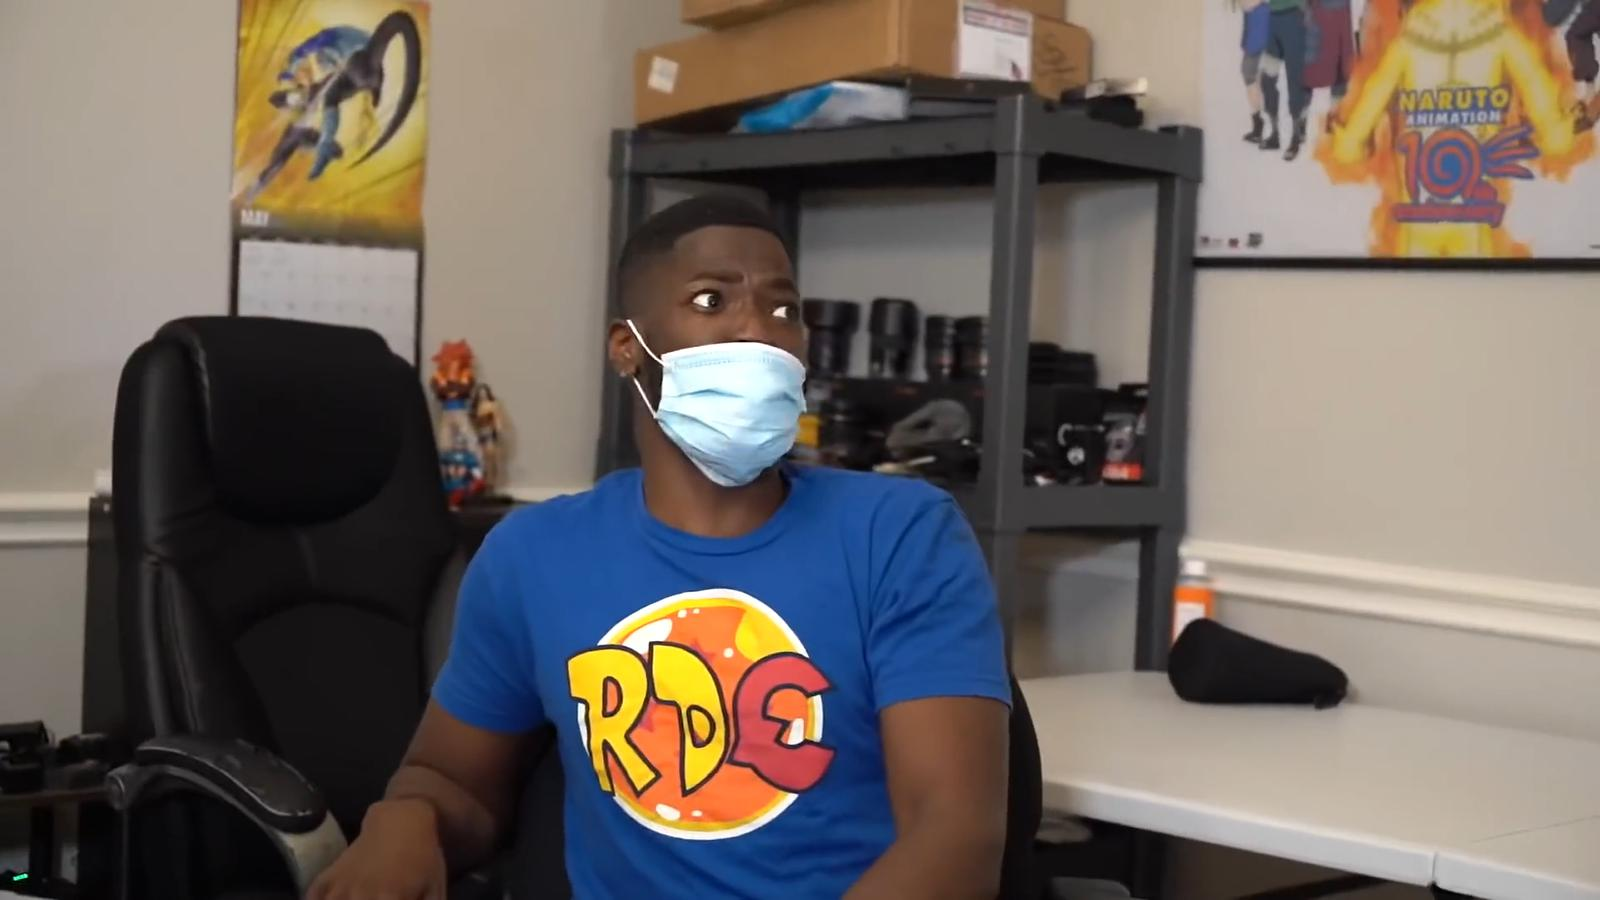with_incorrect_mask: (645, 276, 794, 452)
